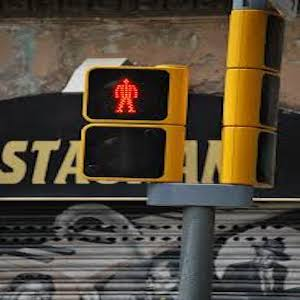red: (107, 73, 141, 117)
